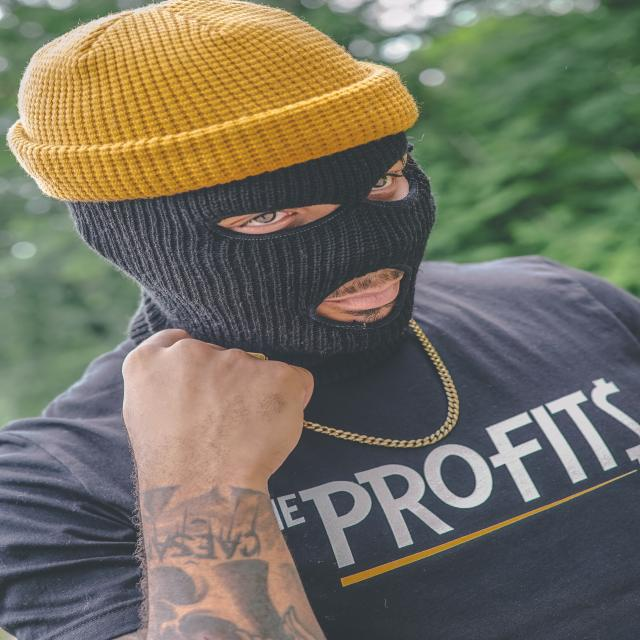hat: (6, 1, 431, 210)
